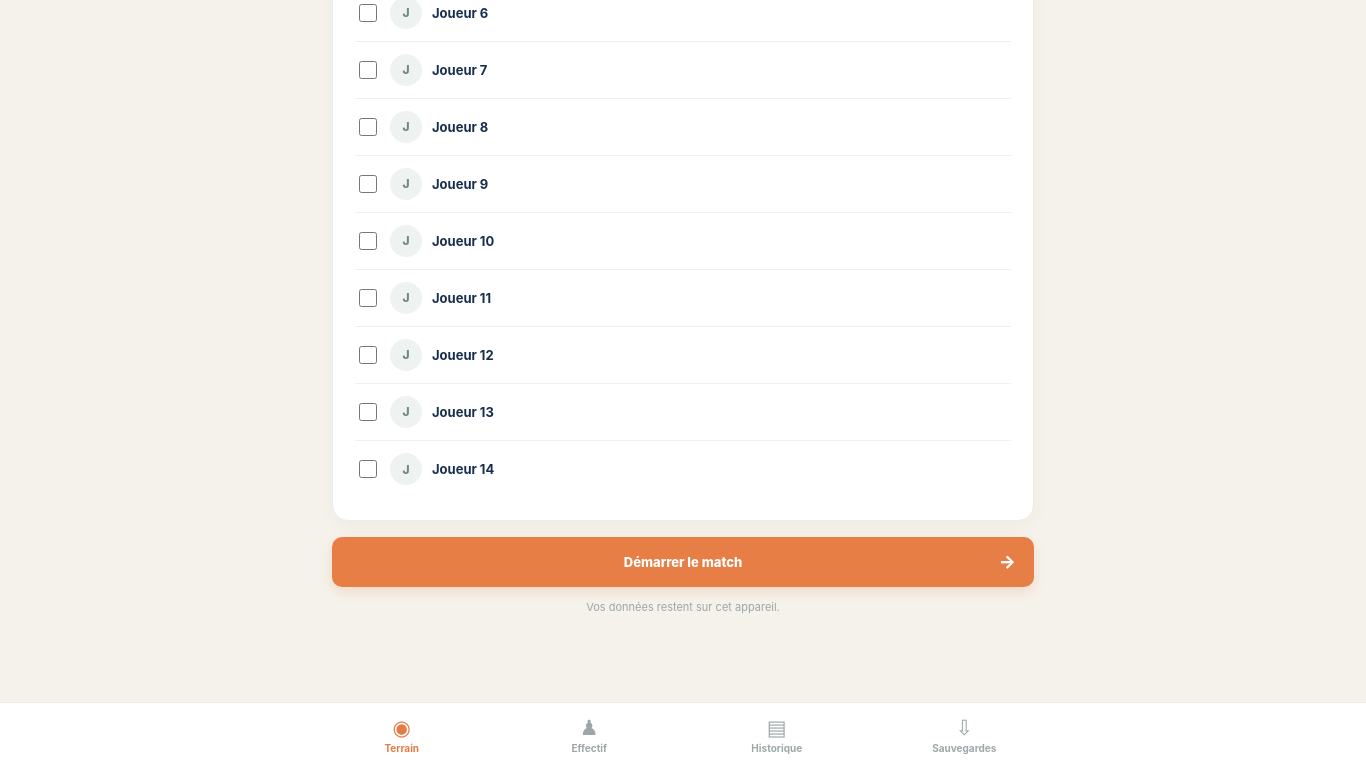
it: coach workflow › validates preparation and persists actions only after player selection
The width and height of the screenshot is (1366, 768).
Later steps or results of the test are not shown.
(page scrolled)
Click the button "Démarrer le match →": (683, 562) [332,536,1034,586]
(page scrolled)
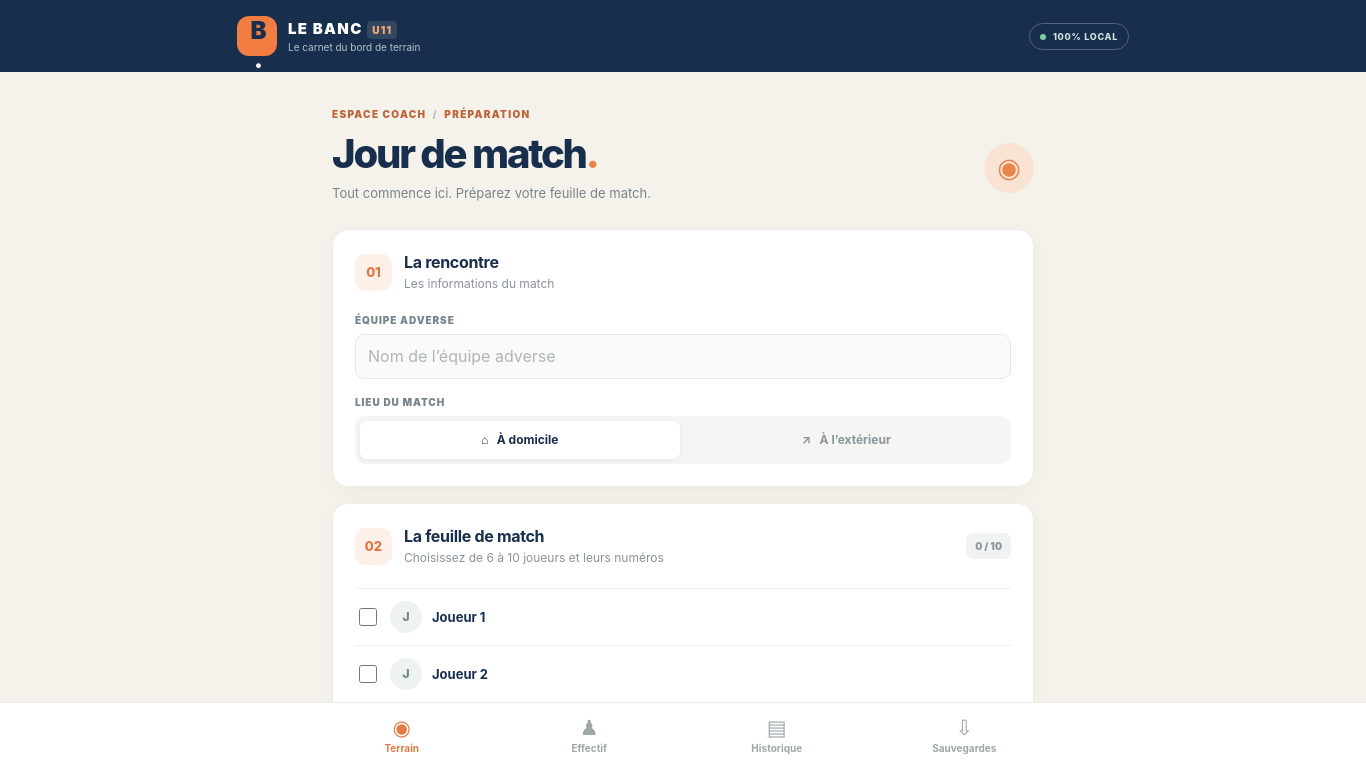
In the field labelled "ÉQUIPE ADVERSE": (683, 356) [355,334,1011,378], type "Lions"
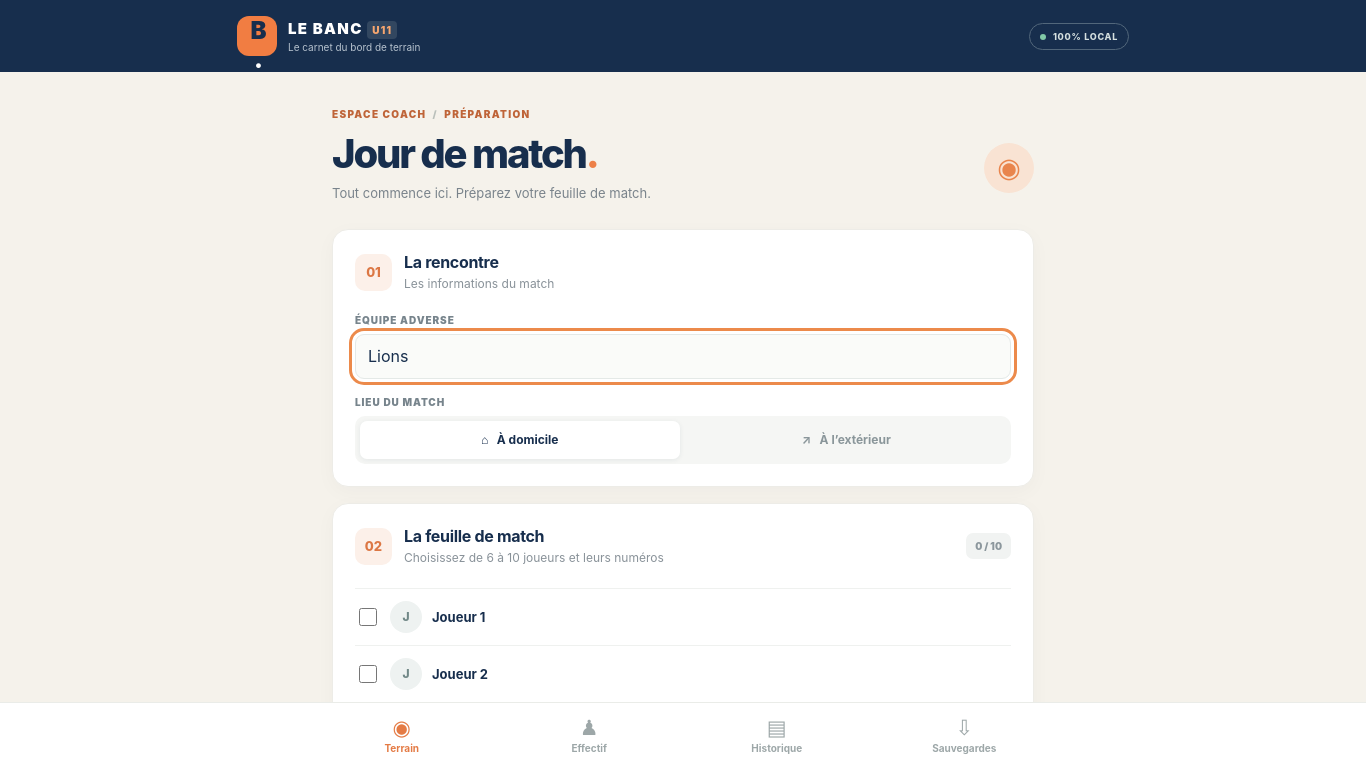
Click the checkbox labelled "Joueur 1": (368, 616) [359,608,377,626]
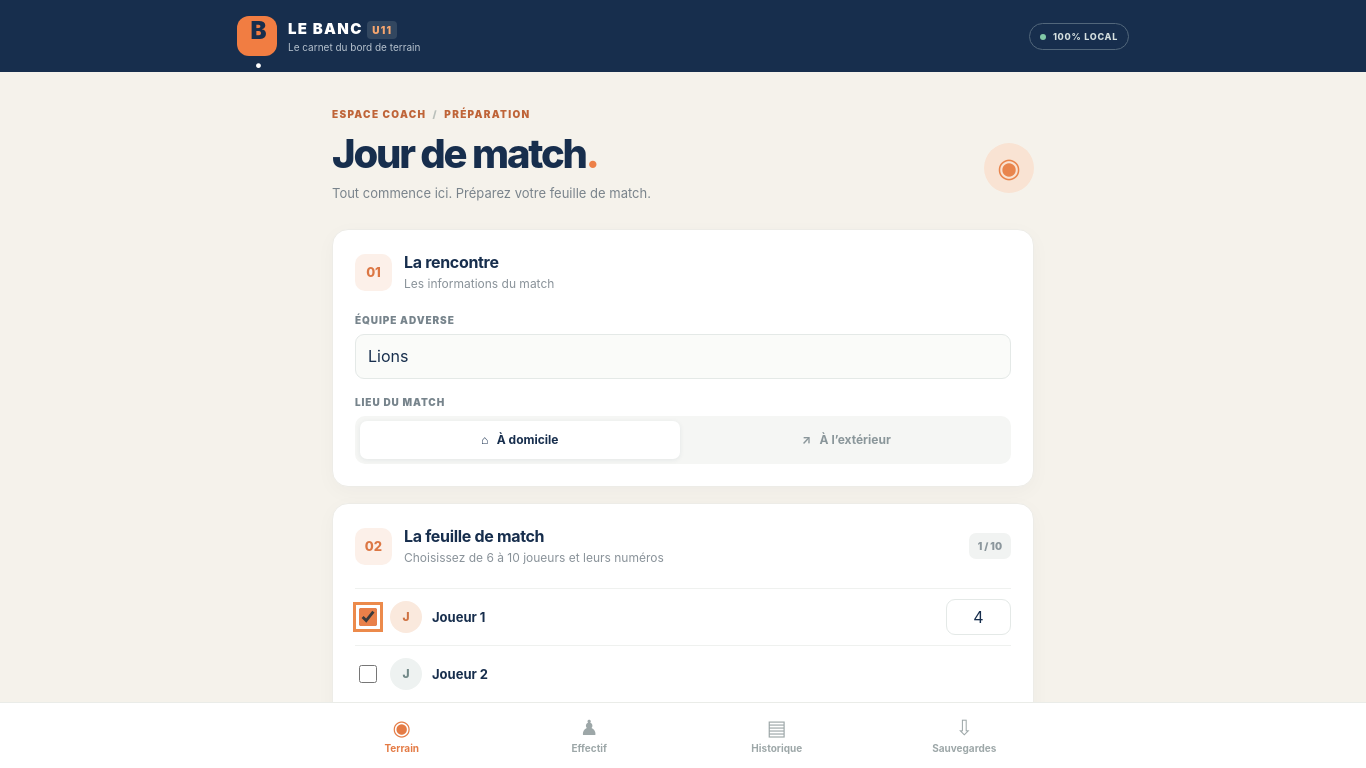
expect the field named "Numéro de Joueur 1" holds "4": met, box [946,598,1011,634]
